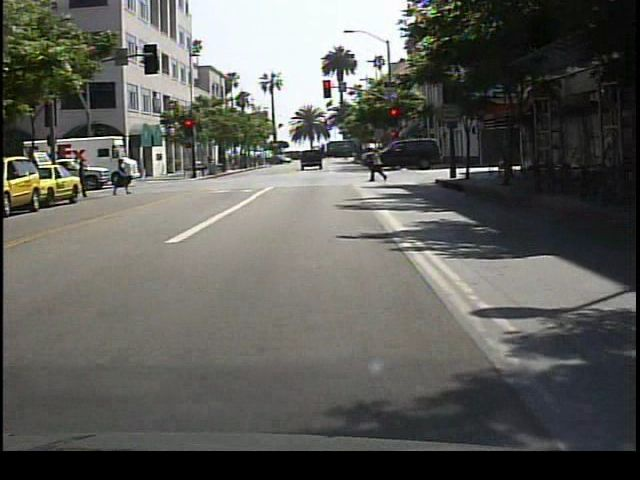person: (495, 138, 519, 186), (73, 152, 92, 200), (369, 147, 390, 182), (114, 157, 131, 197)
